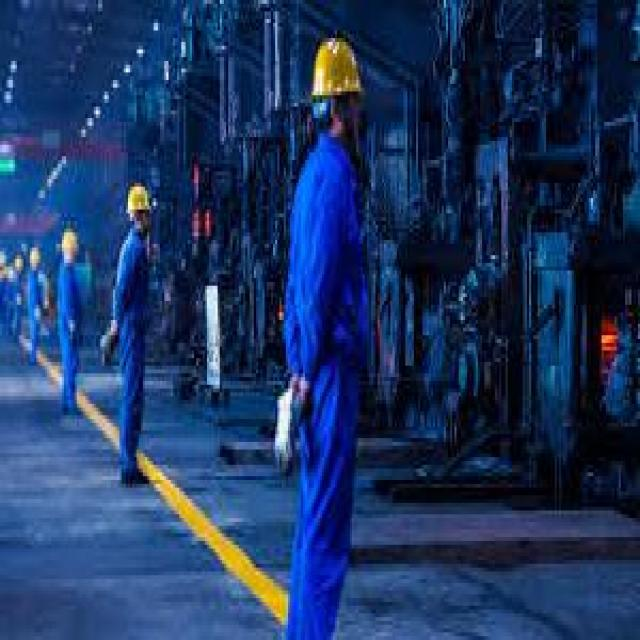Safety-Helmet: (303, 30, 369, 114), (119, 175, 156, 225), (58, 221, 85, 267)
